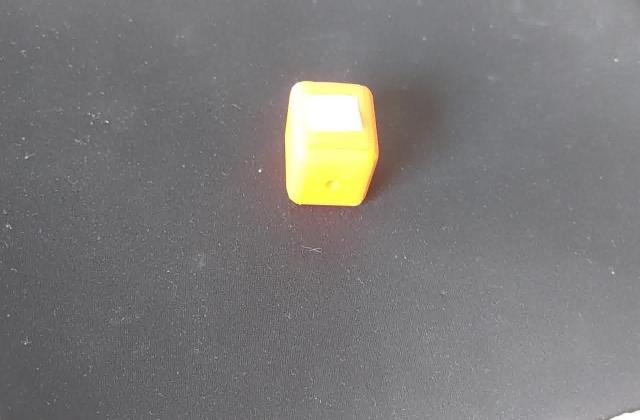cube: (276, 74, 380, 212)
white: (296, 91, 365, 143)
